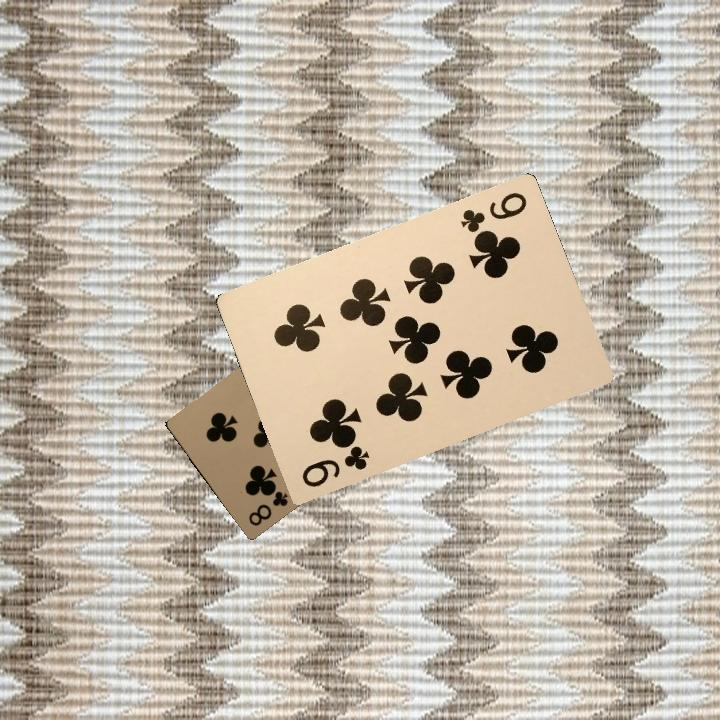8c: (244, 486, 291, 529)
9c: (456, 188, 530, 239), (297, 441, 372, 490)
